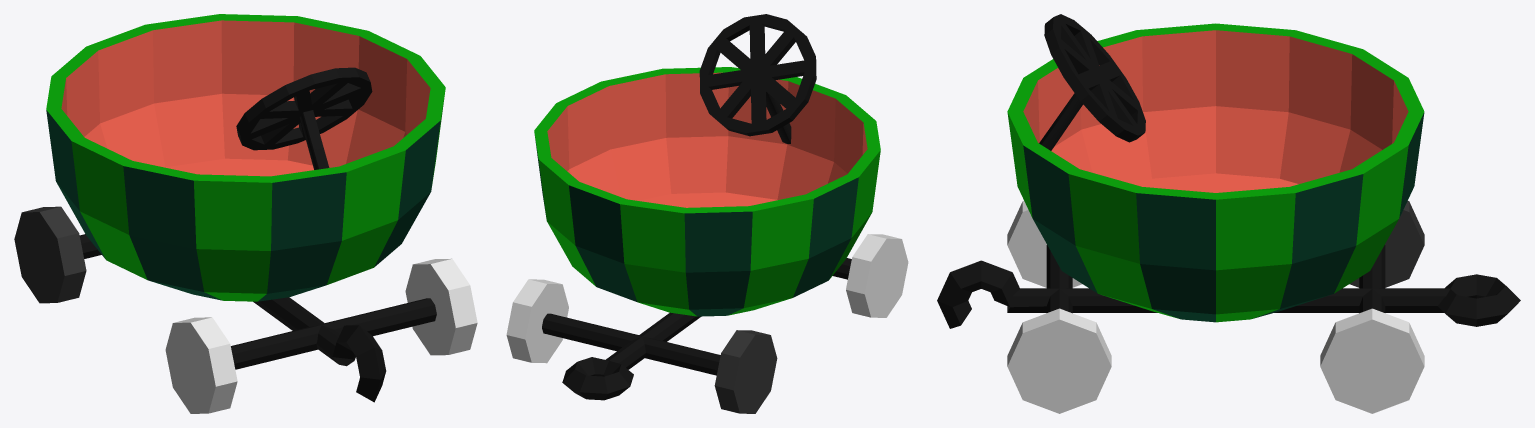
Rendered from WatermelonTrainCar.fbx.
3 renders of one model, left to right at view 1: azimuth 30°, elevation 25°; view 2: azimuth 150°, elevation 25°; view 3: azimuth 270°, elevation 25°, orthographic. The views are drawn at different scales.
Parts seen in each view (by area): view 1: WatermelonTrainCar, Torus.005, Wheel.001, Wheel, Wheel.003, Torus.006; view 2: WatermelonTrainCar, Torus.005, Wheel.001, Wheel, Wheel.002, Torus.006; view 3: WatermelonTrainCar, Wheel.002, Wheel.003, Torus.005, Wheel.001, Wheel, Torus.006.
Part boxes in pixels (x1=…): WatermelonTrainCar: x1=46, y1=14, x2=445, y2=402; Torus.005: x1=236, y1=67, x2=372, y2=150; Wheel.001: x1=165, y1=317, x2=237, y2=413; Wheel: x1=14, y1=206, x2=86, y2=303; Wheel.003: x1=405, y1=258, x2=477, y2=355; Torus.006: x1=300, y1=110, x2=329, y2=169; WatermelonTrainCar: x1=534, y1=67, x2=880, y2=400; Torus.005: x1=699, y1=14, x2=816, y2=136; Wheel.001: x1=846, y1=234, x2=908, y2=317; Wheel: x1=714, y1=330, x2=777, y2=413; Wheel.002: x1=506, y1=279, x2=568, y2=363; Torus.006: x1=766, y1=92, x2=791, y2=143; WatermelonTrainCar: x1=937, y1=23, x2=1520, y2=328; Wheel.002: x1=1320, y1=308, x2=1424, y2=413; Wheel.003: x1=1007, y1=308, x2=1111, y2=413; Torus.005: x1=1044, y1=14, x2=1145, y2=142; Wheel.001: x1=1007, y1=200, x2=1082, y2=287; Wheel: x1=1349, y1=201, x2=1424, y2=287; Torus.006: x1=1039, y1=93, x2=1082, y2=150.
Size of the model in its own units: 80 by 68.65 by 112.
